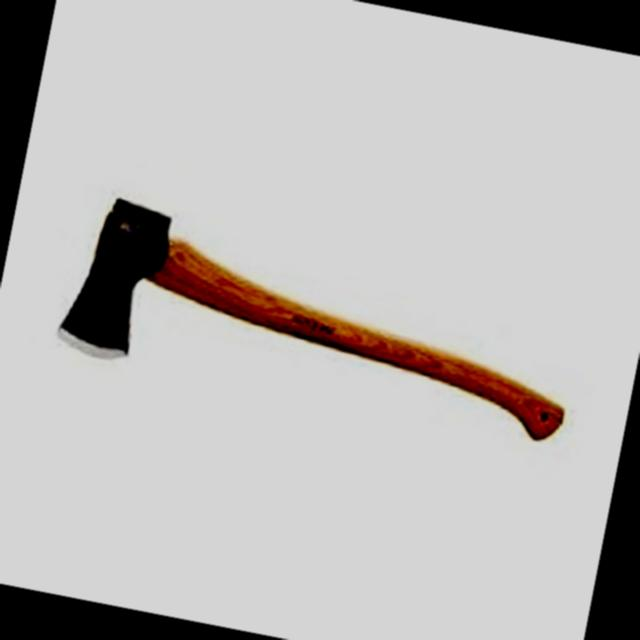ax: (37, 173, 604, 470)
